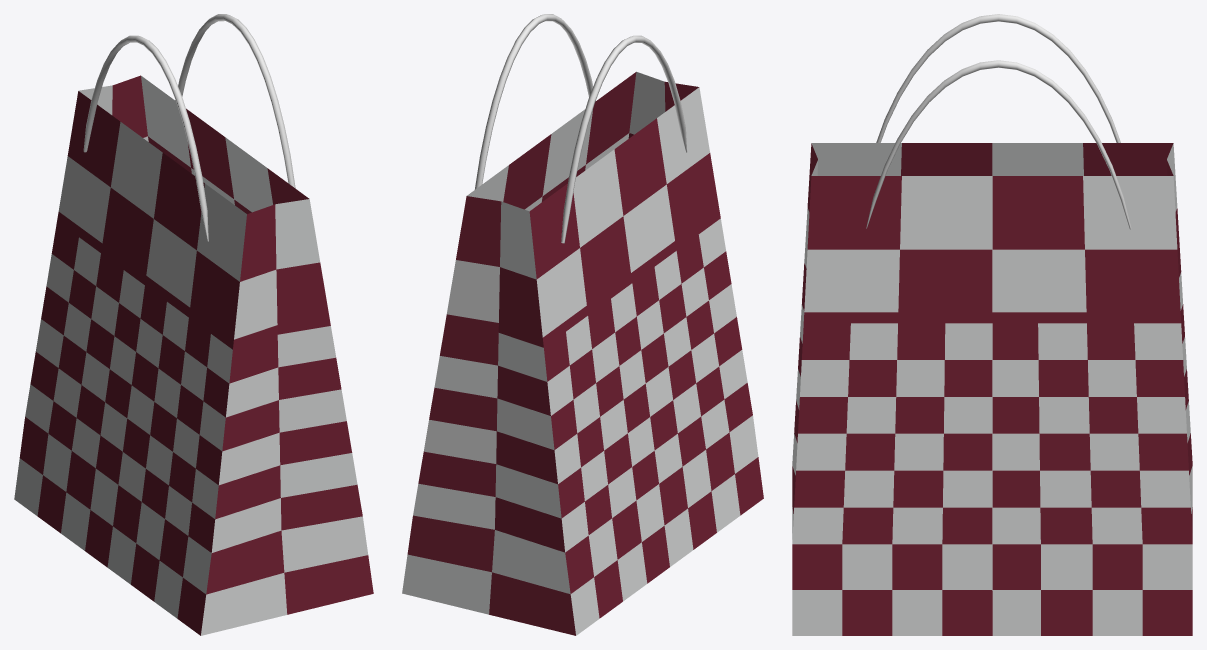
The model's file is bagBigLow.fbx.
3 renders of one model, left to right at view 1: azimuth 30°, elevation 25°; view 2: azimuth 150°, elevation 25°; view 3: azimuth 270°, elevation 25°, orthographic. The views are drawn at different scales.
Visible parts, largest first — view 1: bagBig; view 2: bagBig; view 3: bagBig.
Part boxes in pixels (bbox=[...]): bagBig: bbox=[14, 14, 373, 635]; bagBig: bbox=[402, 14, 763, 635]; bagBig: bbox=[792, 14, 1192, 635].
Bounding box in the file's own units: 0.2275 × 0.6483 × 0.4252.
